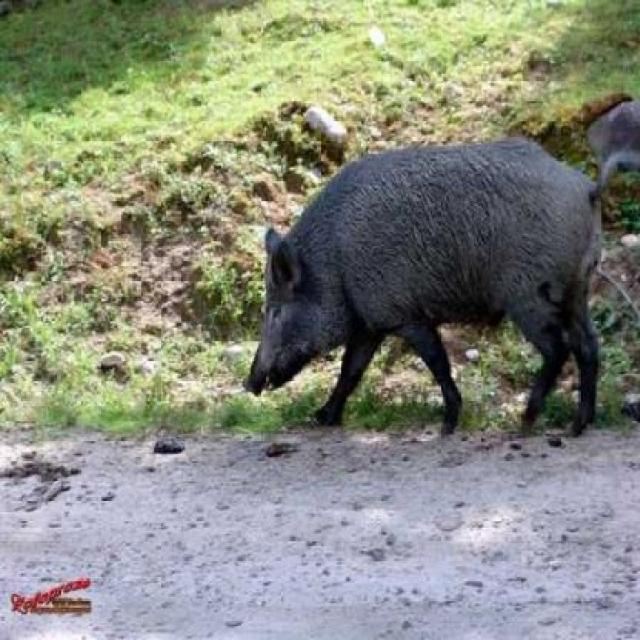pig: (220, 110, 638, 438), (597, 77, 639, 229)
